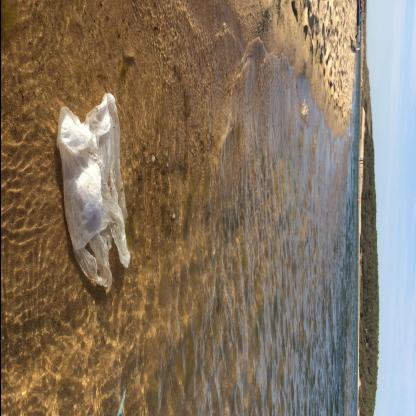plastik: (55, 92, 130, 292)
